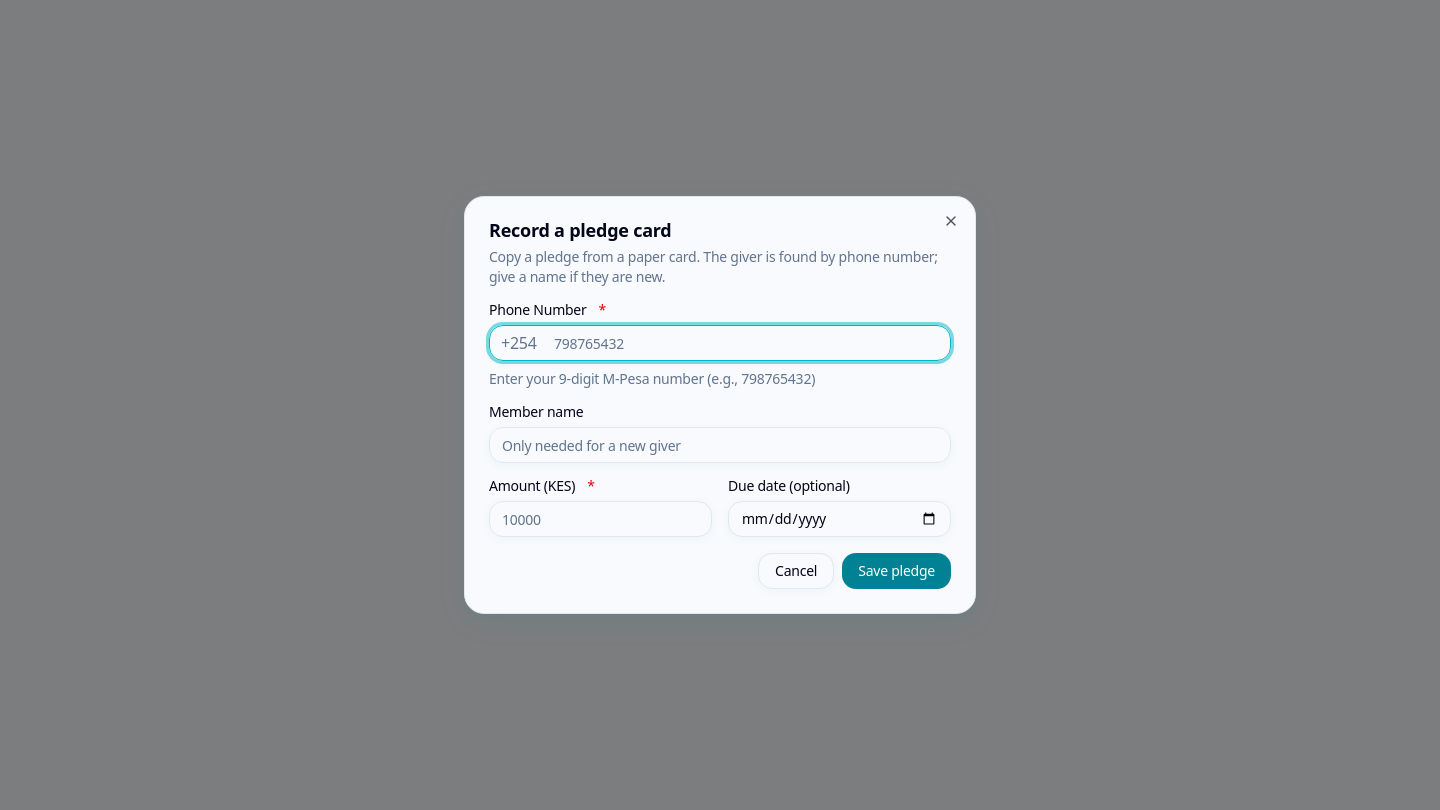
it: RecordPledgeDialog for a fixed campaign › records for that campaign without asking which, and shows a refusal
Step 1. Type "712345678" into the field labelled "Phone Number *" → point(720, 343), box [489,325,951,361]
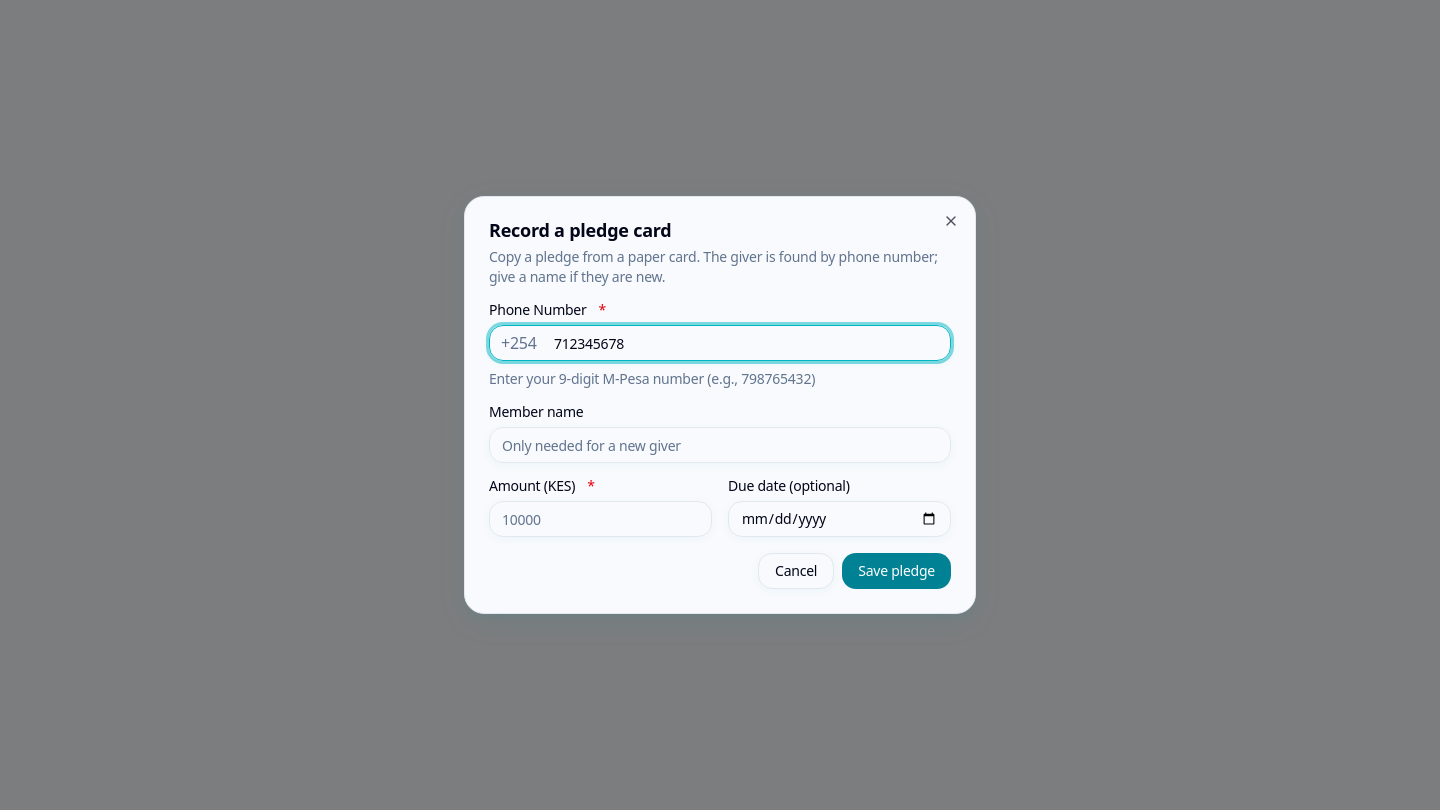
Step 2. Type "2000" into the number field labelled "Amount (KES) *" → point(600, 519), box [489,501,712,537]
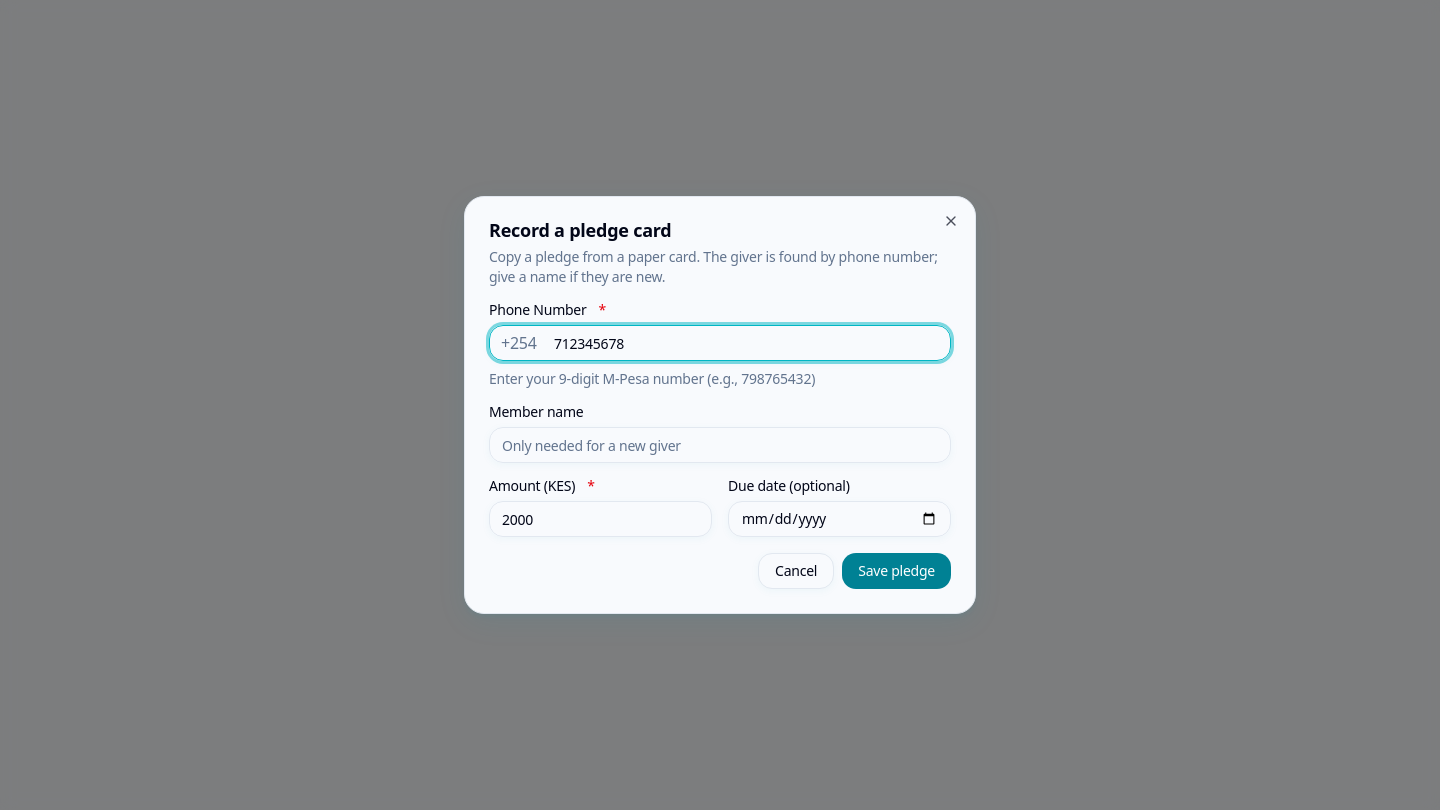
Step 3. Click the button "Save pledge" → point(897, 571), box [842,553,951,589]
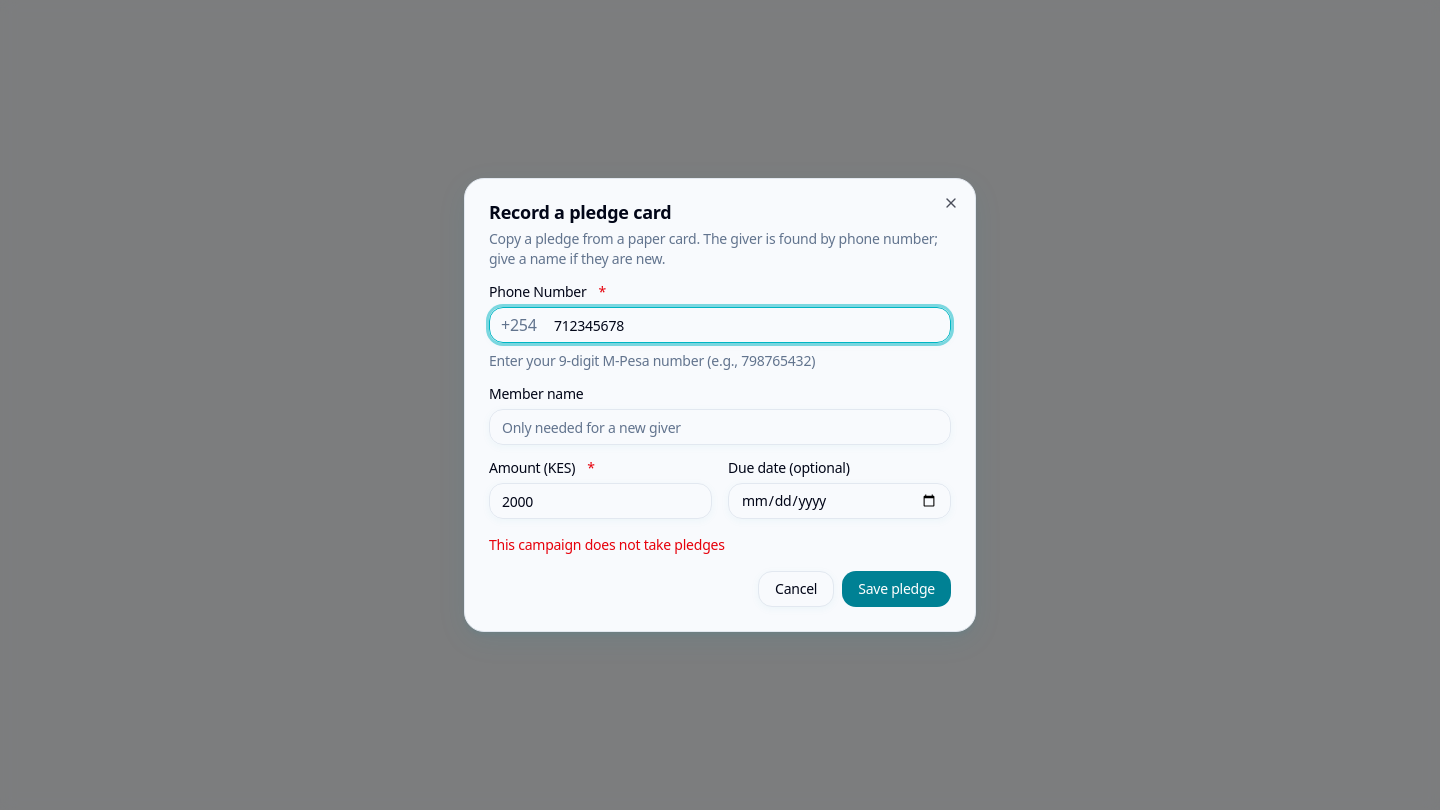
Result: the message reads "This campaign does not take pledges" at [489,535,725,554]
